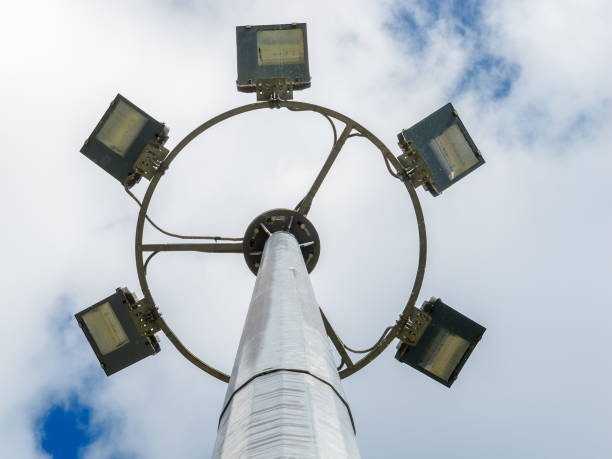light_pole: (212, 232, 360, 459)
